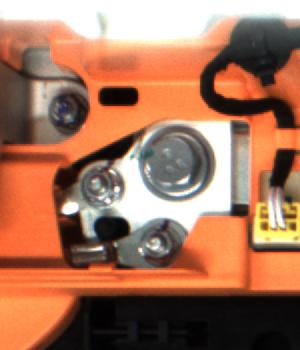nut_b: (134, 116, 221, 206)
